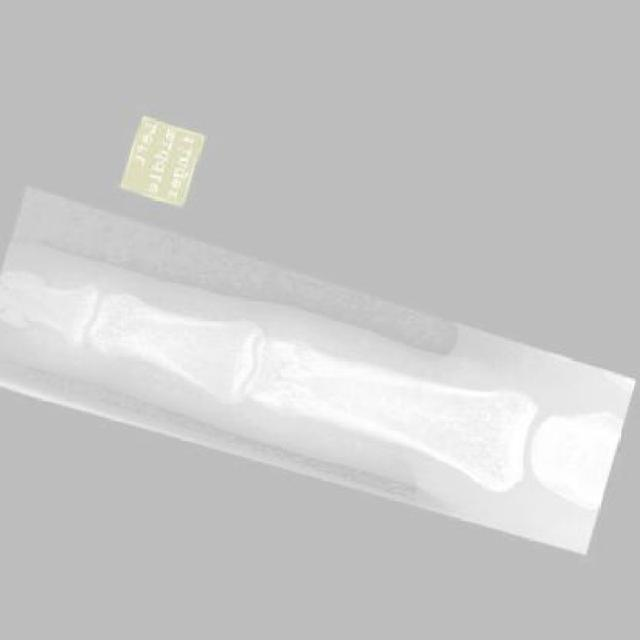Fracture: (0, 267, 52, 330)
